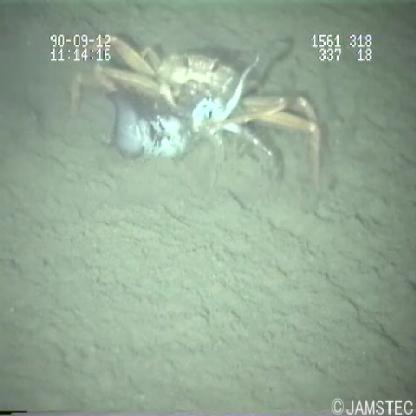Bio: (65, 30, 326, 185)
